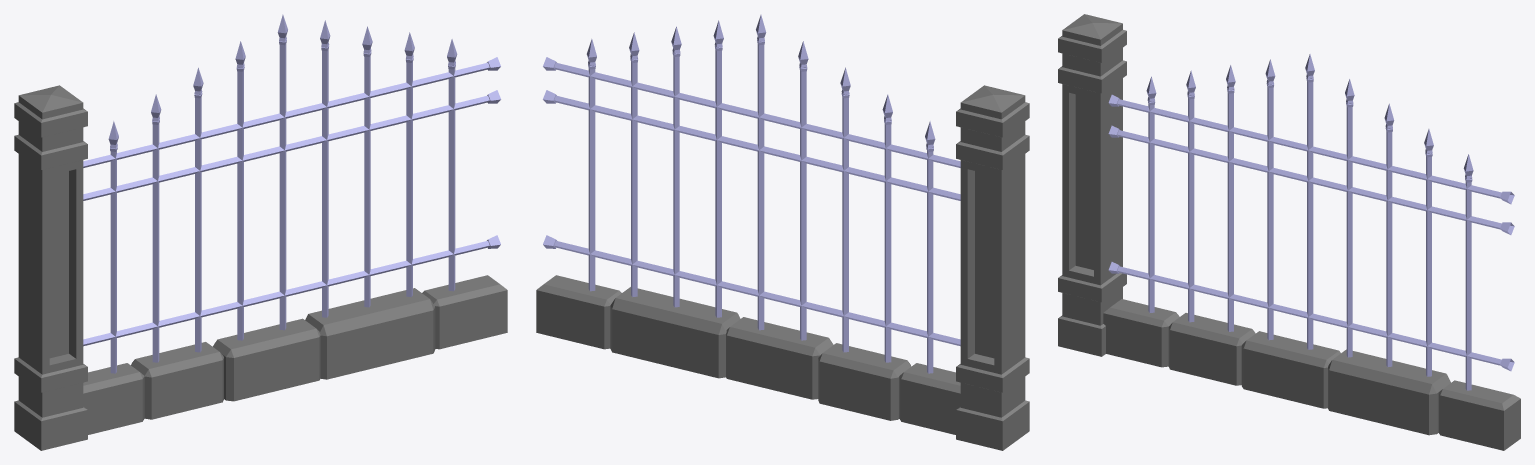
The model's file is SM_Fence_06.fbx.
3 renders of one model, left to right at view 1: azimuth 30°, elevation 25°; view 2: azimuth 150°, elevation 25°; view 3: azimuth 330°, elevation 25°, orthographic. The views are drawn at different scales.
Visible parts, largest first — view 1: Object014; view 2: Object014; view 3: Object014.
Boxes of the visible parts, bbox=[...] form: Object014: bbox=[14, 14, 507, 450]; Object014: bbox=[536, 14, 1029, 450]; Object014: bbox=[1058, 14, 1520, 450].
Size of the model in its own units: 303 by 224 by 30.
